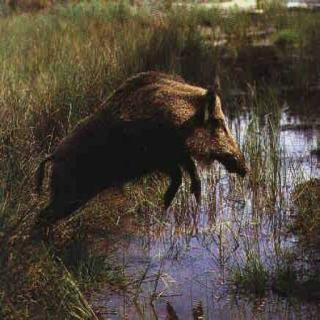Pig: (30, 78, 252, 242)
